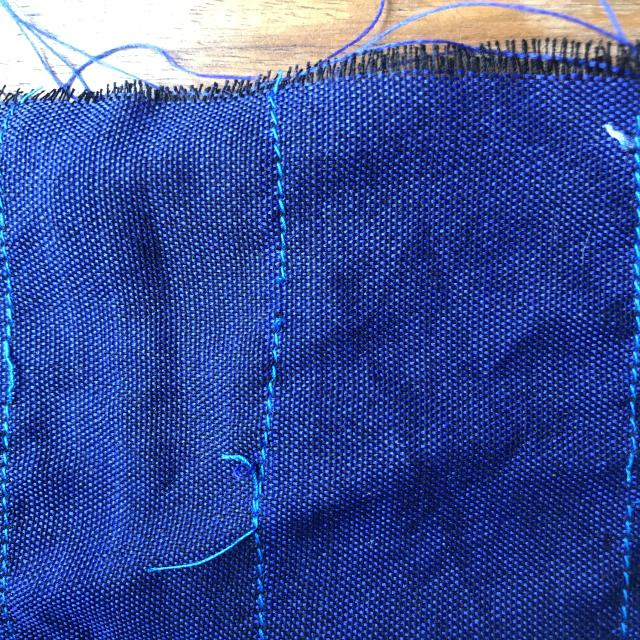broken: (251, 230, 307, 341)
